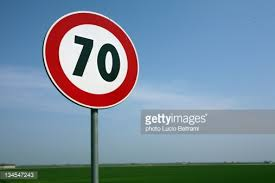Speed_limit_70km: (43, 10, 138, 107)
